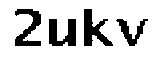2: (14, 6, 45, 48)
k: (81, 5, 115, 51)
u: (49, 12, 79, 49)
v: (115, 13, 147, 47)
